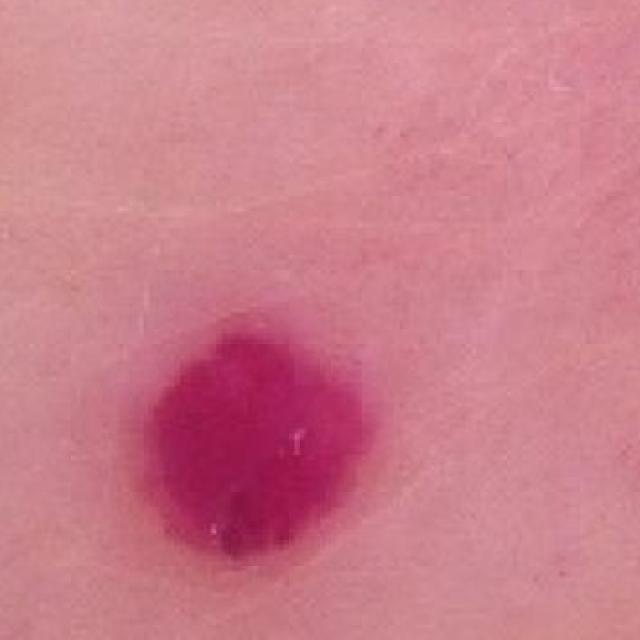VASC: (98, 200, 422, 620)
